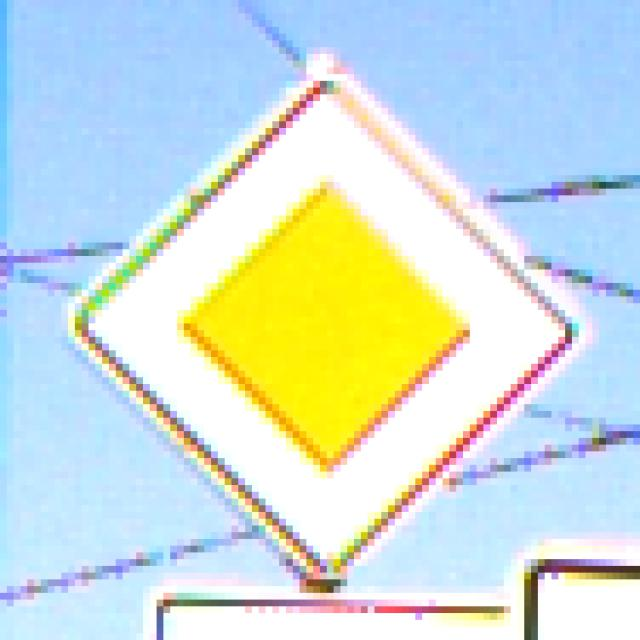Main Road: (62, 55, 587, 587)
